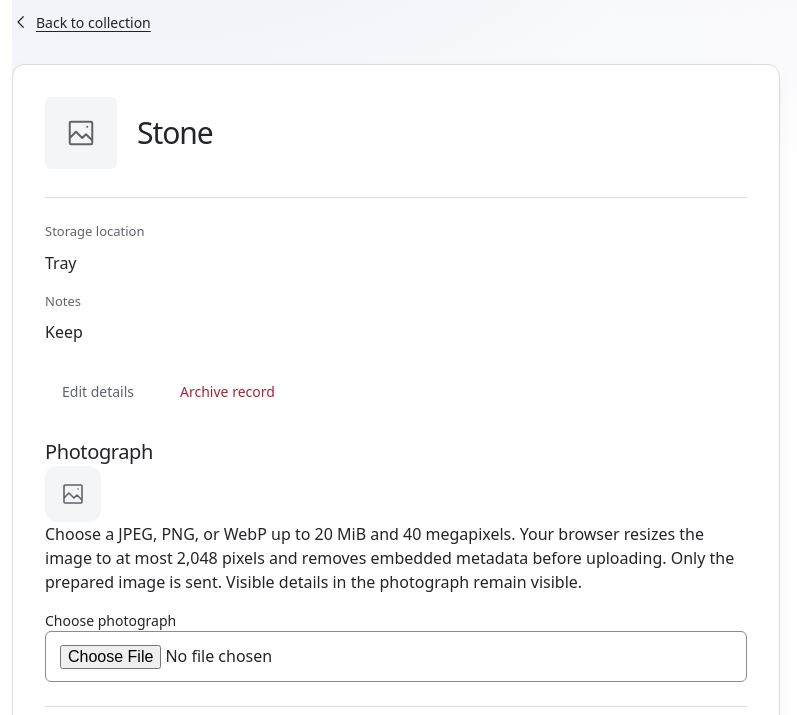
it: blocks duplicates and other editors while pending and invalidates uncertain collection pages
This screenshot has width=797, height=715.
// WHEN confirming twice THEN only one request is sent and navigation is marked uncertain.
What coordinates should you click on to do the following:
click the button "Archive record"
I would click on:
 (227, 392)
Its box is [163, 370, 292, 414].
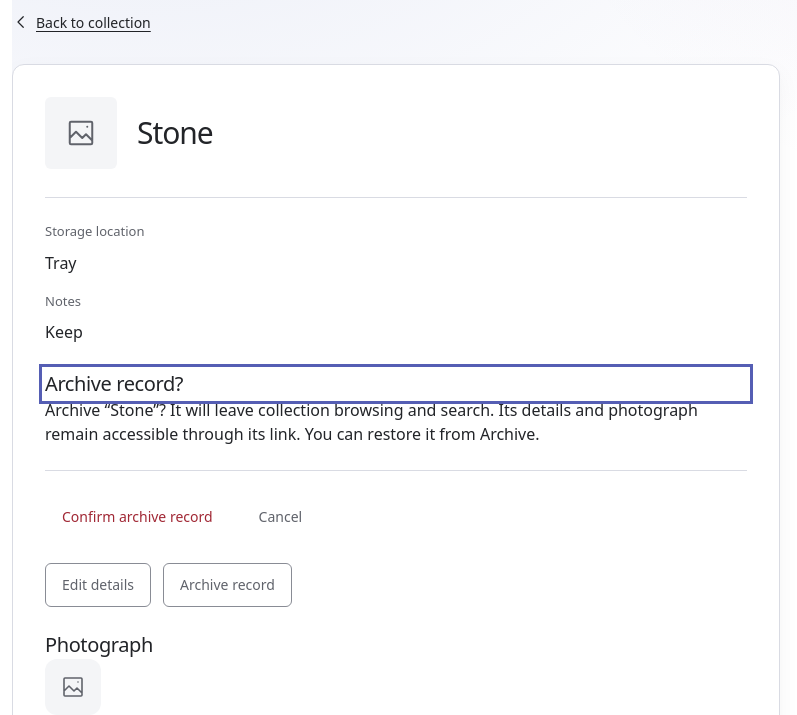
Expected: the button "Edit details" is disabled, [45, 563, 151, 607]
What coordinates should you click on to do the following:
click the button "Confirm archive record"
I would click on:
 (137, 517)
Its box is [45, 495, 230, 539].
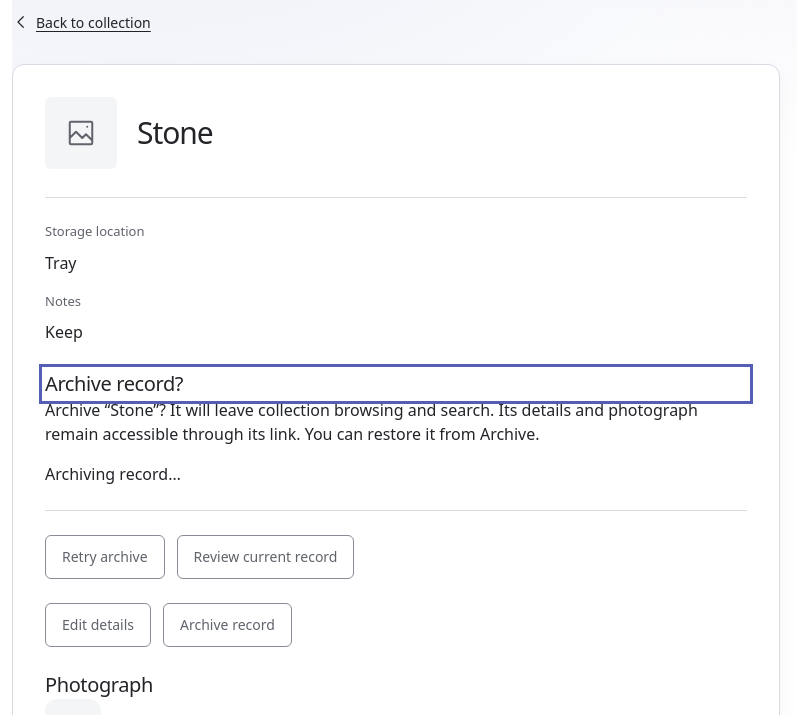
What coordinates should you click on to do the following:
click the button "Retry archive"
I would click on:
 (105, 557)
Its box is [45, 535, 165, 579].
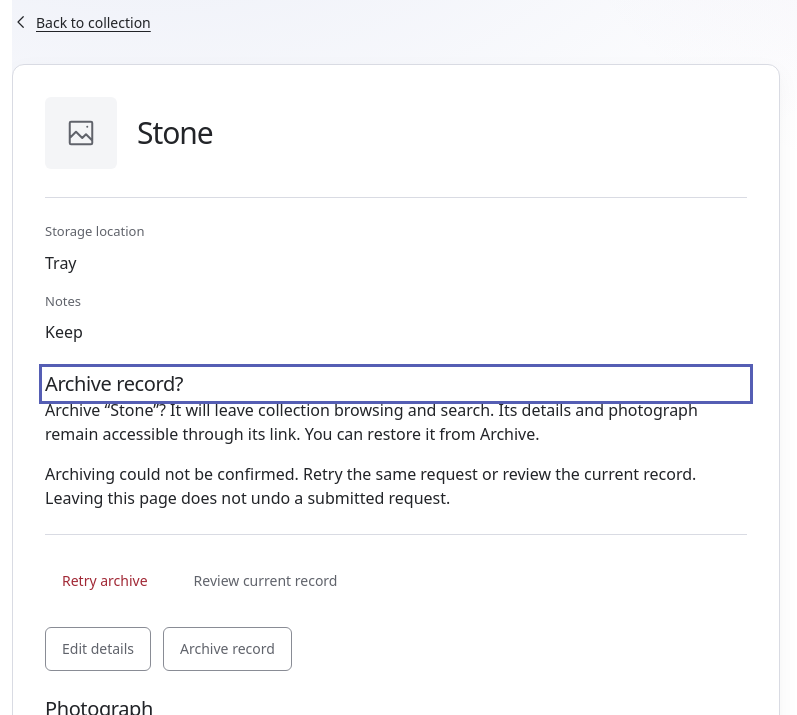
Expected: the message is shown, [45, 462, 747, 510]
